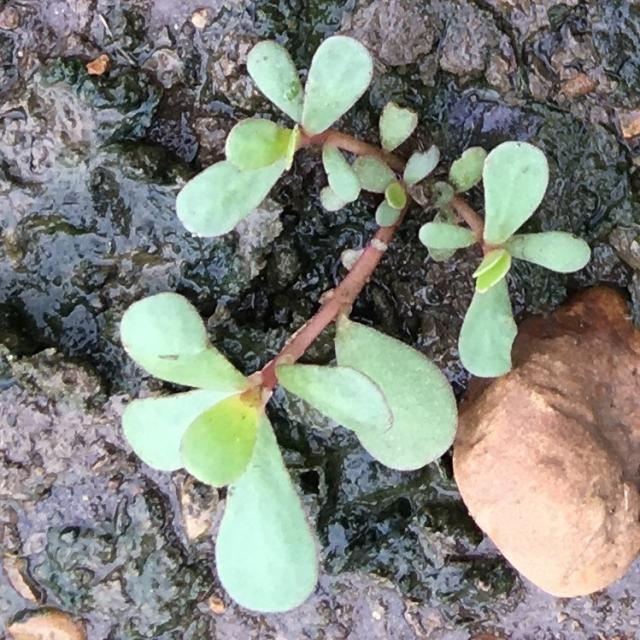Purslane: (121, 35, 592, 615)
